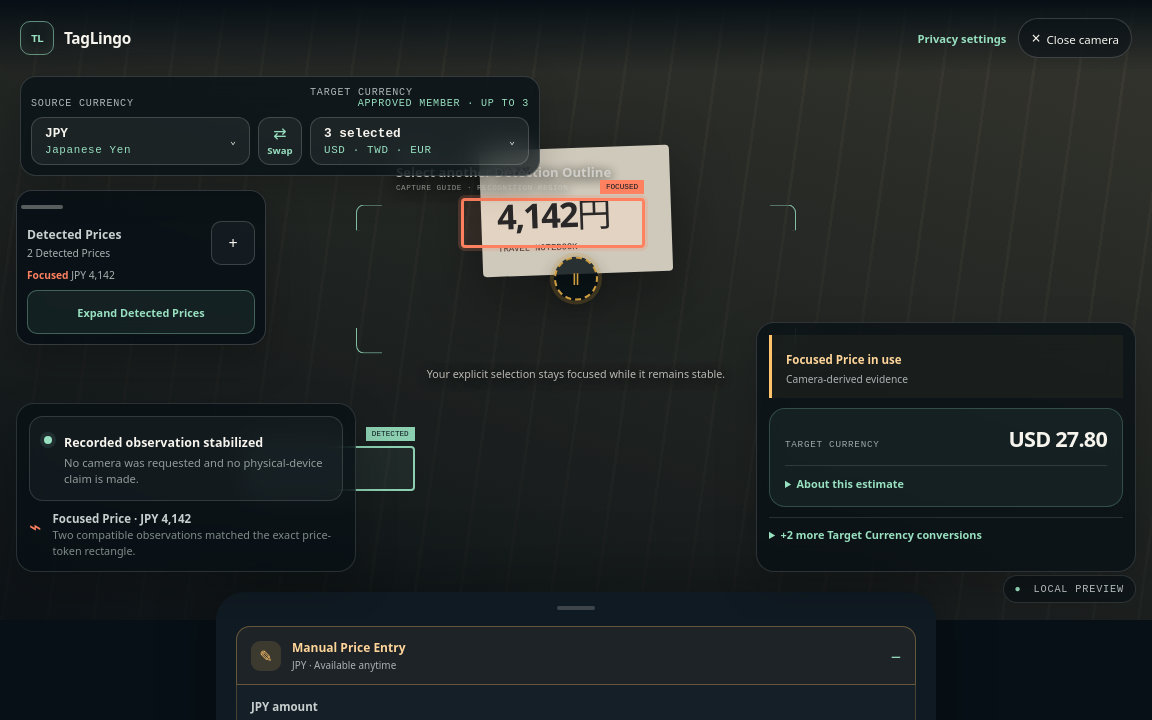
Test: Camera Workspace boundary › keeps the primary conversion visible and discloses every selected Target Currency
Check: the text "USD 27.80" is shown, box [1008,424,1107,453]
Check: the text "TWD 911.24" is not shown
Click the heading "+2 more Target Currency conversions" at (881, 534), box [780,527,982,542]
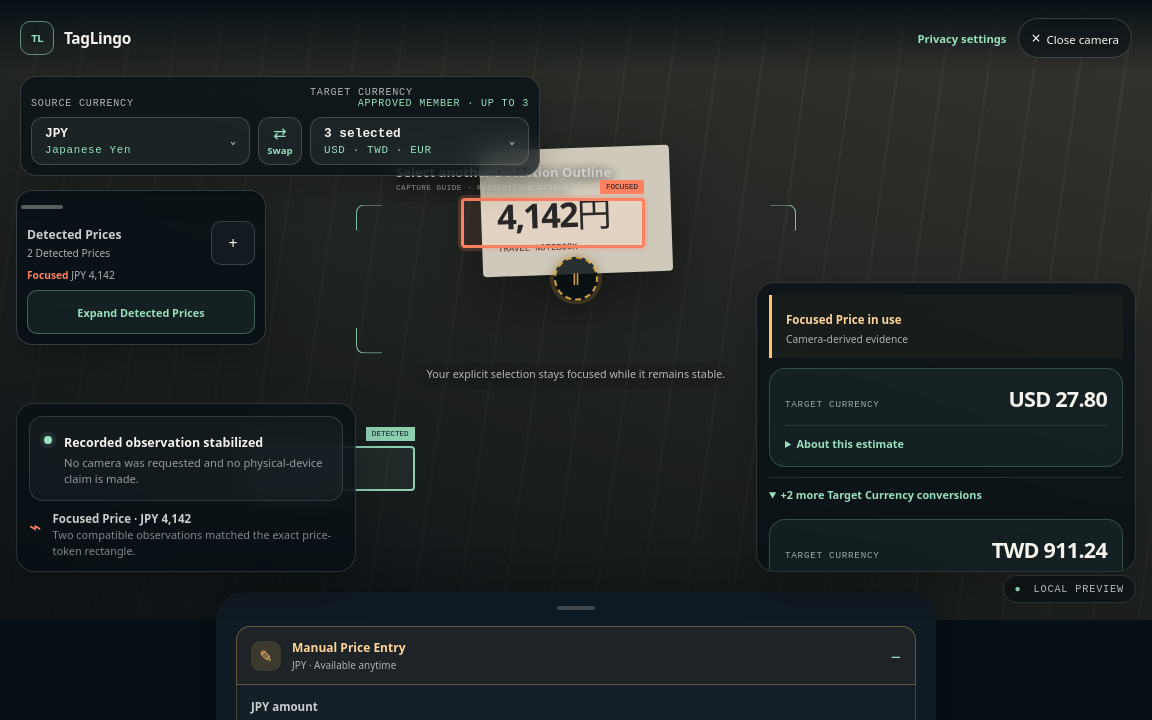
Check: the text "TWD 911.24" is shown, box [992,535,1107,564]
